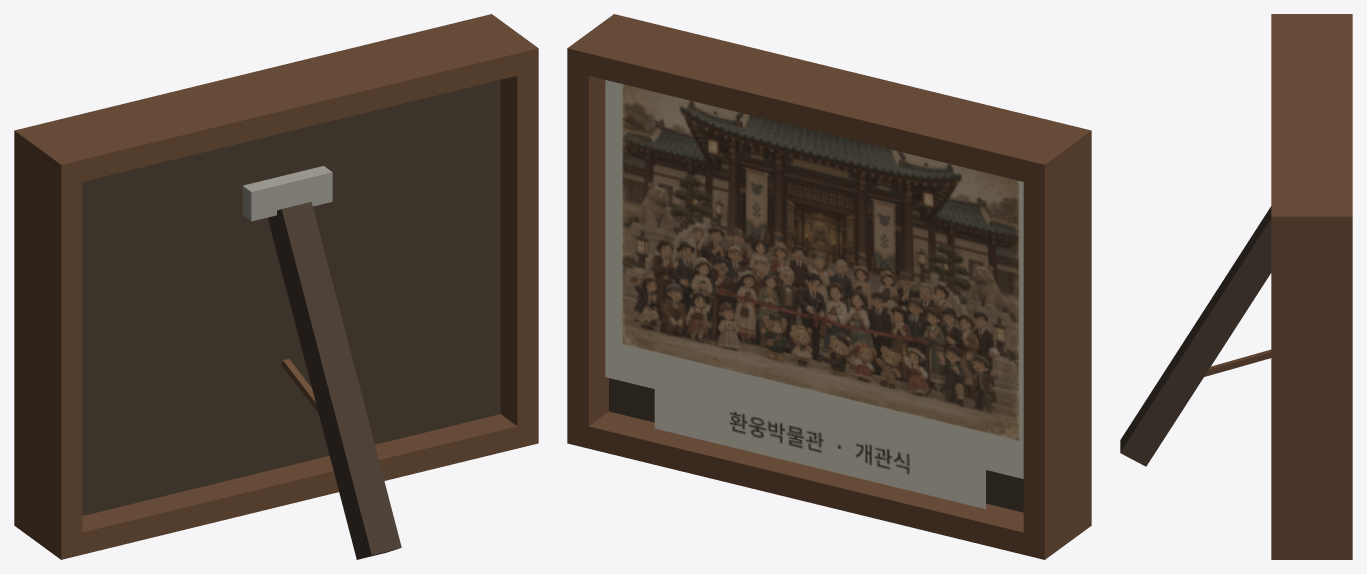
The model's file is C07_Opening_Day_Photograph.fbx.
3 views of the same model, side by side, from view 1: azimuth 30°, elevation 25°; view 2: azimuth 150°, elevation 25°; view 3: azimuth 270°, elevation 25° (orthographic). The views are drawn at different scales.
Parts seen in each view (by area): view 1: Photo_Frame, Back_Stand; view 2: Photo_Frame, Front_Opening_Photo, Front_Photo_Caption; view 3: Photo_Frame, Back_Stand.
Part boxes in pixels (box(x1,y1,x2,y2)): Photo_Frame: box(14, 14, 538, 559); Back_Stand: box(242, 166, 401, 559); Photo_Frame: box(567, 14, 1091, 559); Front_Opening_Photo: box(622, 84, 1019, 440); Front_Photo_Caption: box(654, 372, 985, 509); Photo_Frame: box(1271, 14, 1352, 559); Back_Stand: box(1120, 206, 1271, 466).
Size of the model in its own units: 0.764 by 0.6071 by 0.3707.
Materials: 5 (1 with a texture image).
